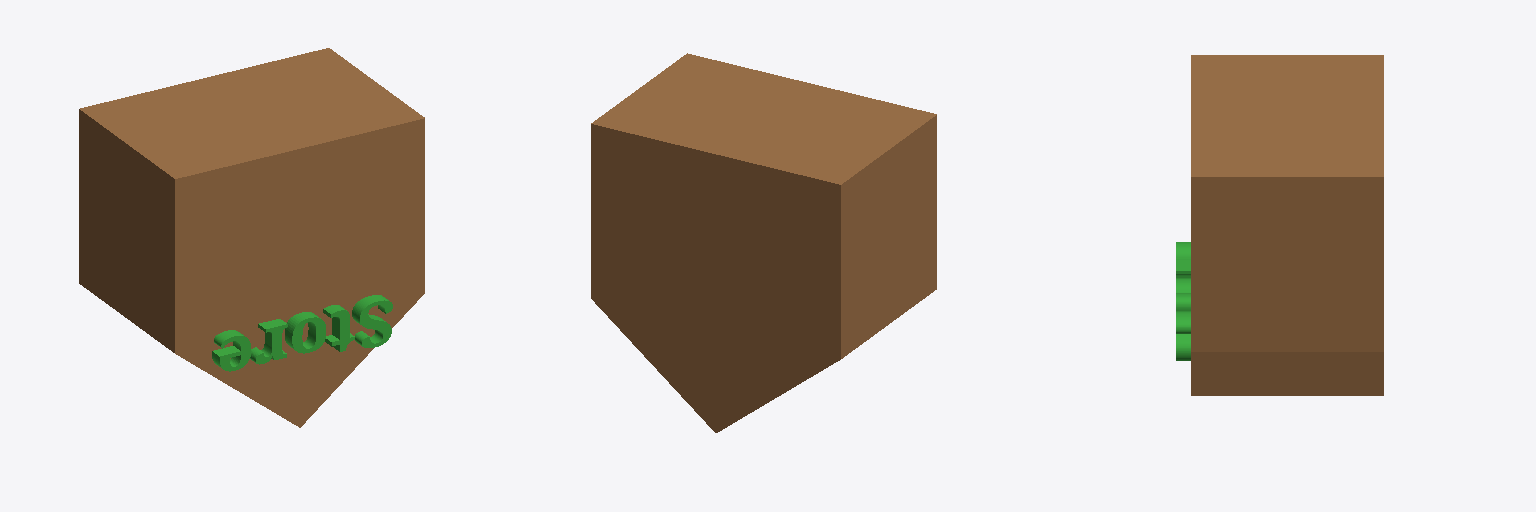
Rendered from tinker.obj.
3 renders of one model, left to right at view 1: azimuth 30°, elevation 25°; view 2: azimuth 150°, elevation 25°; view 3: azimuth 270°, elevation 25°, orthographic.
Parts seen in each view (by area): view 1: obj_0; view 2: obj_0; view 3: obj_0.
Boxes of the visible parts, <box> form: obj_0: <box>79,48,424,427</box>; obj_0: <box>591,53,936,432</box>; obj_0: <box>1176,55,1383,395</box>.
Bounding box in the file's own units: 75 × 80 × 54.